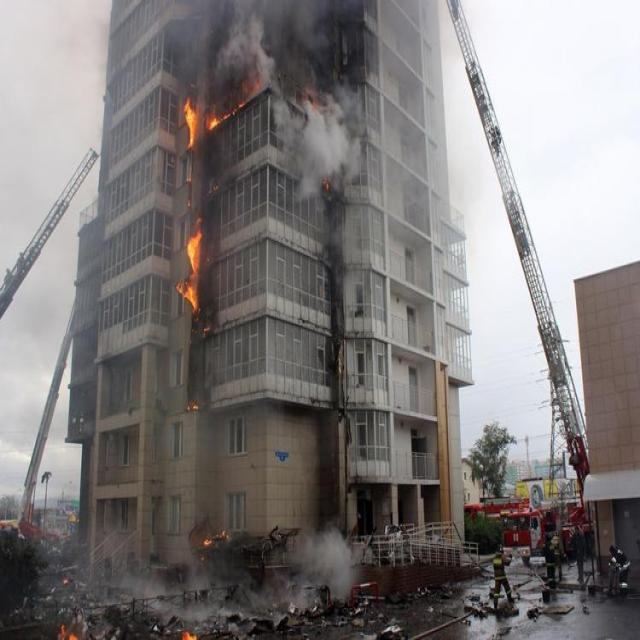Fire: (174, 228, 202, 314), (182, 100, 195, 145)
Smoke: (187, 0, 333, 78), (296, 85, 364, 198)
